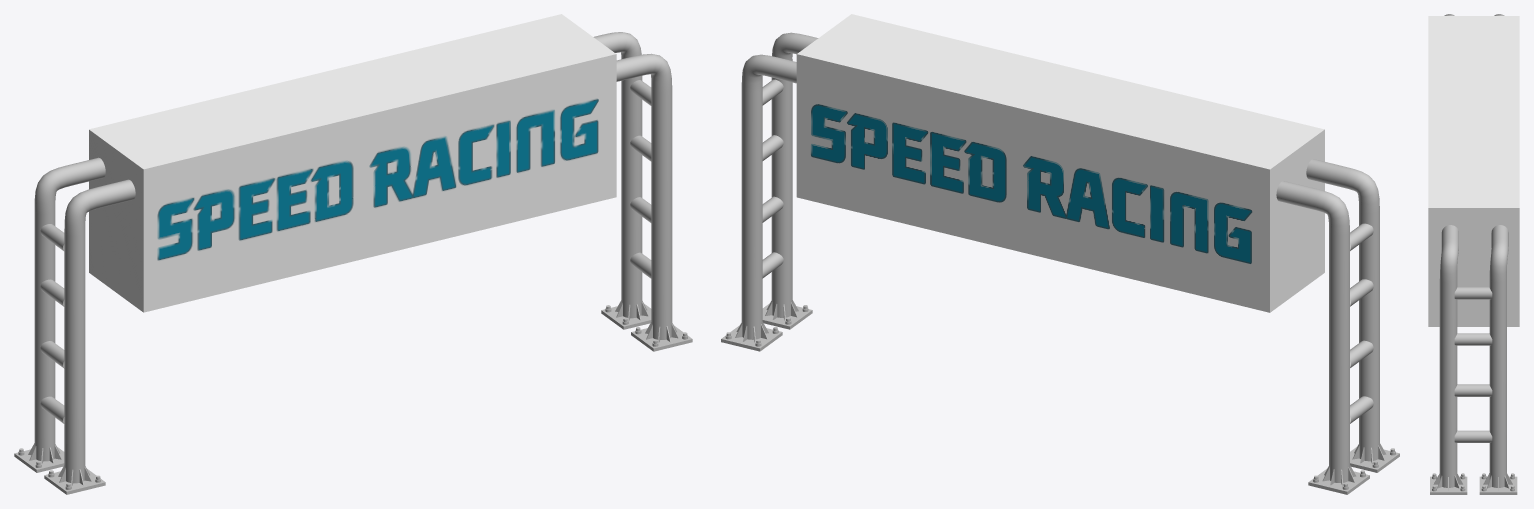
The model's file is Title Sign.fbx.
3 renders of one model, left to right at view 1: azimuth 30°, elevation 25°; view 2: azimuth 150°, elevation 25°; view 3: azimuth 270°, elevation 25°, orthographic. The views are drawn at different scales.
Parts seen in each view (by area): view 1: Cylinder.002, Cylinder.001; view 2: Cylinder.002, Cylinder.001; view 3: Cylinder.002, Cylinder.001.
Part boxes in pixels (x1,y1,x2,y2): Cylinder.002: (89, 14, 616, 312); Cylinder.001: (14, 32, 692, 494); Cylinder.002: (796, 14, 1324, 312); Cylinder.001: (721, 32, 1399, 494); Cylinder.002: (1428, 16, 1519, 326); Cylinder.001: (1430, 14, 1517, 494).
Bounding box in the file's own units: 9589 × 4504 × 1453.
